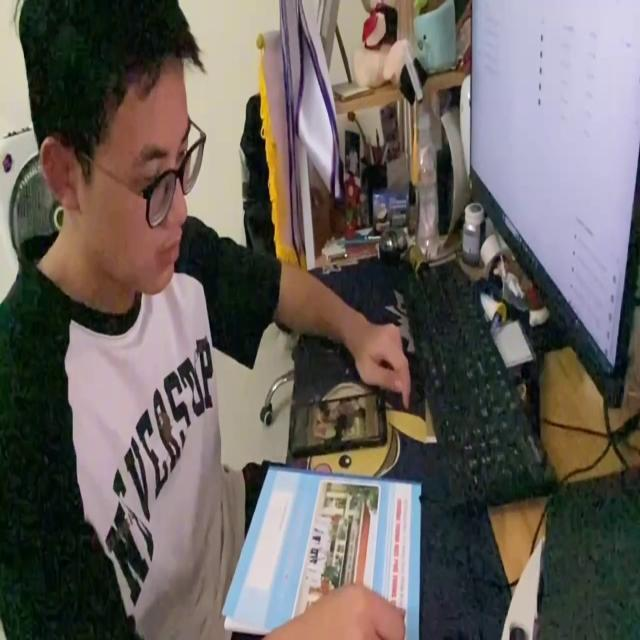book: (213, 459, 418, 640)
laptop: (468, 2, 640, 415)
phone: (288, 386, 386, 453)
student: (3, 0, 413, 640)
